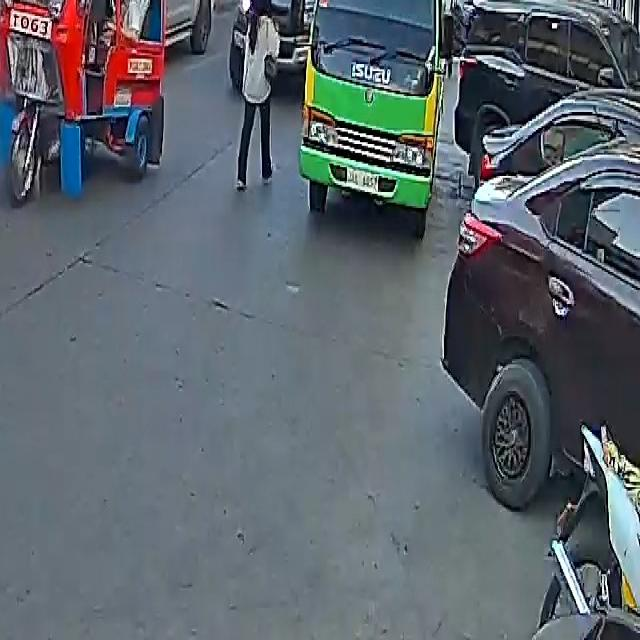car: (443, 68, 640, 528), (453, 0, 639, 183), (230, 0, 334, 92), (152, 0, 224, 60)
